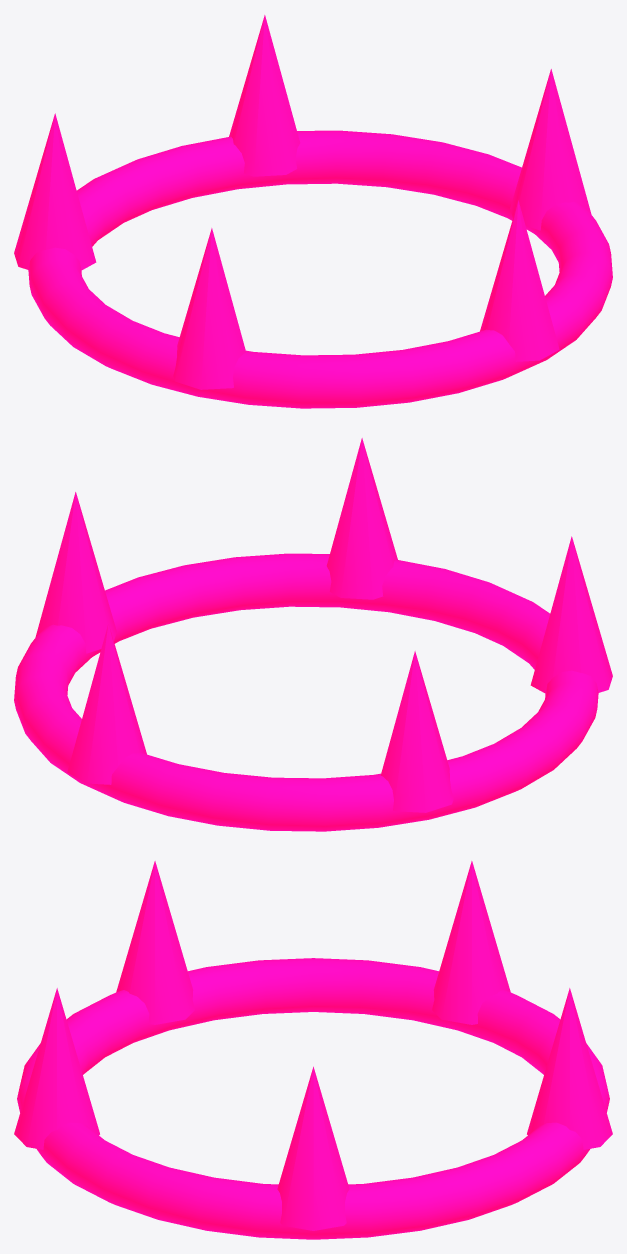
The model's file is head_cyber_helmet.glb.
3 renders of one model, top to bottom at view 1: azimuth 30°, elevation 25°; view 2: azimuth 150°, elevation 25°; view 3: azimuth 270°, elevation 25°, orthographic.
Size of the model in its own units: 0.5085 by 0.1575 by 0.5.
